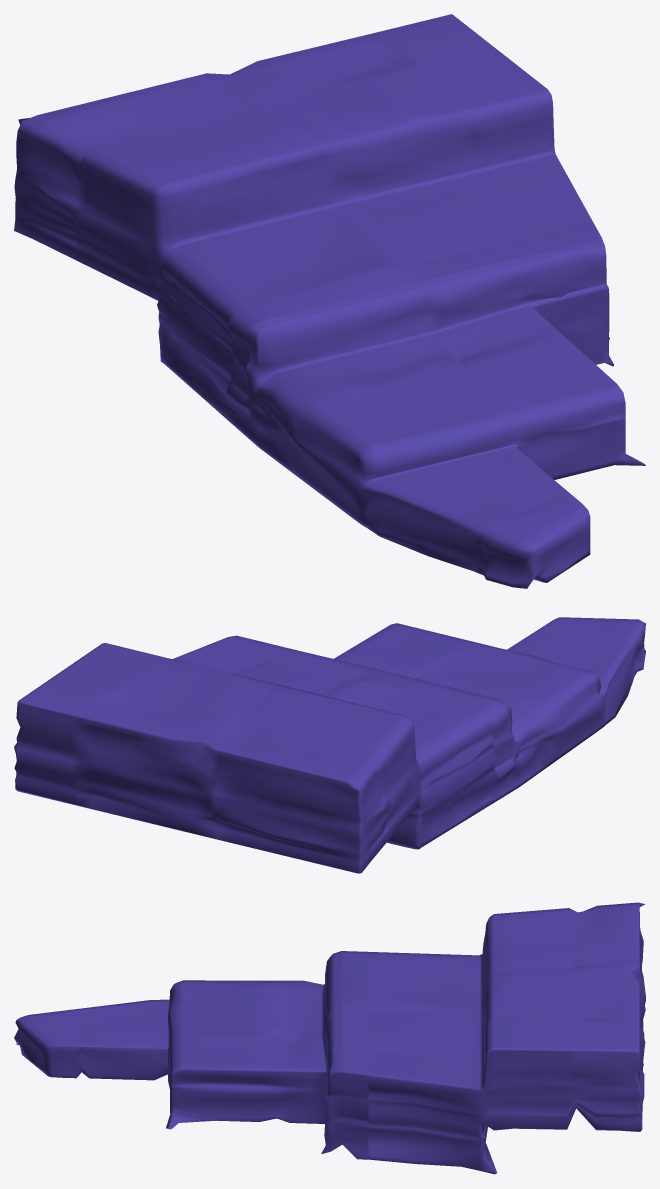
File: staircase.fbx
The picture shows the model from 3 angles, top to bottom: view 1: azimuth 30°, elevation 25°; view 2: azimuth 150°, elevation 25°; view 3: azimuth 270°, elevation 25°; orthographic projection. The views are drawn at different scales.
Parts seen in each view (by area): view 1: pCube1; view 2: pCube1; view 3: pCube1.
Part boxes in pixels (x1,y1,x2,y2): pCube1: (14,14,645,588); pCube1: (14,617,645,873); pCube1: (14,902,645,1174).
Bounding box in the file's own units: 228 × 90.43 × 396.
